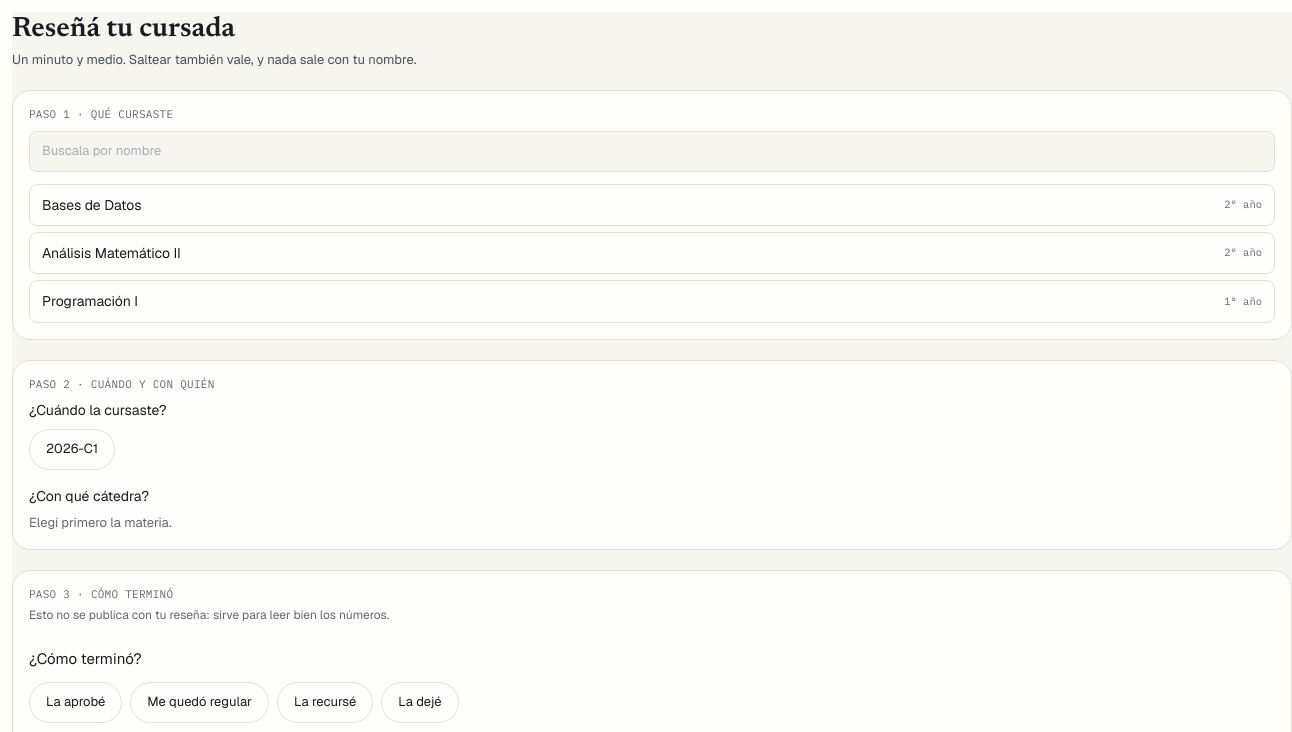
Test: SC-015: estados que dependen de props › con materias en el plan, una búsqueda sin resultados dice que ninguna coincide
In the search field named "buscá la materia que cursaste": [652, 151] box [29,131,1275,172], type "zzz-no-existe"
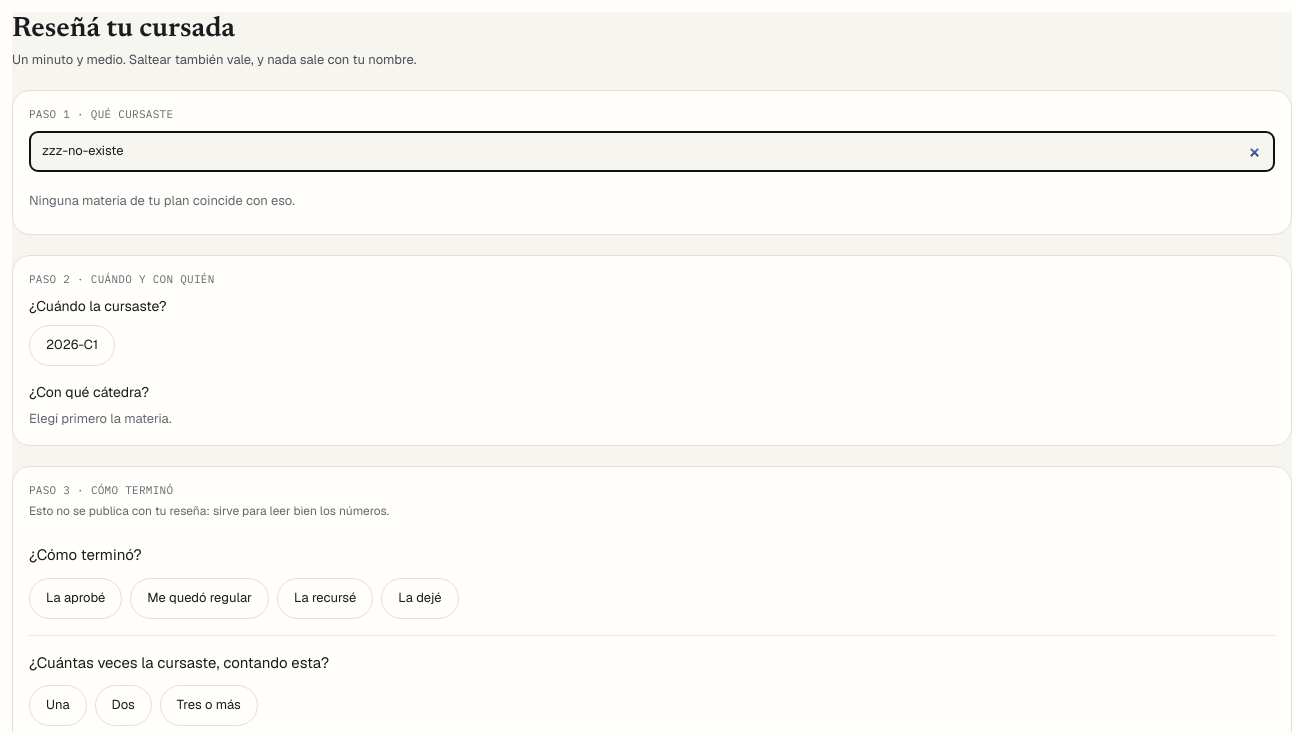
Expected: the list item "Ninguna materia de tu plan coincide con eso." is shown, [29,192,295,209]
